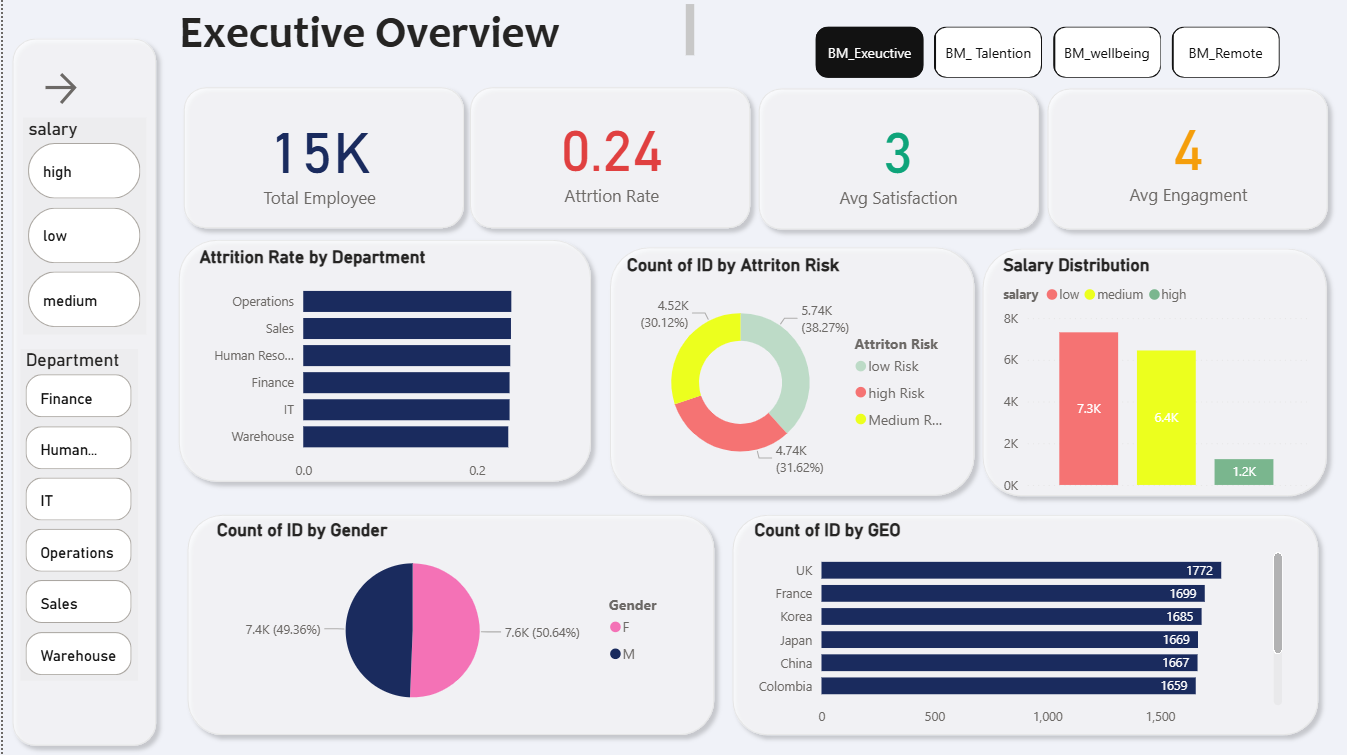

This screenshot's page, from the dashboard's own definition file:
{"tool":"powerbi","page":{"name":"Executive Overview","canvas":[1280,720],"ordinal":0},"visuals":[{"type":"shape","box":[0,28.8,154.9,691.6],"z":0},{"type":"textbox","box":[162.8,0,500,60.5],"z":1000},{"type":"shape","box":[162.8,75.6,284.9,152.3],"z":2000},{"type":"shape","box":[158.5,219.7,410.7,248.6],"z":3000},{"type":"shape","box":[568.6,227.9,365.1,254.7],"z":4000},{"type":"shape","box":[924,228,346,254],"z":5000},{"type":"shape","box":[166.3,482.6,519.8,227.9],"z":6000},{"type":"shape","box":[686,482,576,228],"z":7000},{"type":"bookmarkNavigator","box":[773.3,26.4,444.3,49.2],"z":8000},{"type":"shape","box":[710.5,76.7,284.9,152.3],"z":9000},{"type":"shape","box":[986,76.7,284.9,152.3],"z":10000},{"type":"shape","box":[436,75.6,284.9,152.3],"z":11000},{"type":"card","fields":{"Values":["Count(HR_Engagement_Sat_Sales_Updated.Name)"]},"box":[180.2,86,244.2,129.1],"z":12000},{"type":"card","fields":{"Values":["HR_Engagement_Sat_Sales_Updated.Attrtion Rate"]},"box":[462.8,86,233.7,126.7],"z":13000},{"type":"card","fields":{"Values":["HR_Engagement_Sat_Sales_Updated.Avg Satisfaction"]},"box":[731.4,86,244.2,129.1],"z":14000},{"type":"card","fields":{"Values":["HR_Engagement_Sat_Sales_Updated.Avg Engagment"]},"box":[1007,83.7,244.2,129.1],"z":15000},{"type":"clusteredBarChart","title":"Attrition Rate by Department","fields":{"Category":["HR_Engagement_Sat_Sales_Updated.Department"],"Y":["Avg(HR_Engagement_Sat_Sales_Updated.left_Company)"]},"box":[182.6,236,365.1,231.4],"z":16000},{"type":"donutChart","fields":{"Category":["HR_Engagement_Sat_Sales_Updated.Attriton Risk"],"Y":["CountNonNull(HR_Engagement_Sat_Sales_Updated.ID)"]},"box":[589.6,242.6,320.6,225.7],"z":17000},{"type":"clusteredBarChart","fields":{"Y":["CountNonNull(HR_Engagement_Sat_Sales_Updated.ID)"],"Category":["HR_Engagement_Sat_Sales_Updated.GEO"]},"box":[710.8,494.7,512.7,206.5],"z":18000},{"type":"pieChart","fields":{"Y":["CountNonNull(HR_Engagement_Sat_Sales_Updated.ID)"],"Category":["HR_Engagement_Sat_Sales_Updated.Gender"]},"box":[199.3,494.7,449.1,193.3],"z":19000},{"type":"columnChart","title":"Salary Distribution","fields":{"Y":["CountNonNull(HR_Engagement_Sat_Sales_Updated.ID)"],"Series":["HR_Engagement_Sat_Sales_Updated.salary"],"Category":["HR_Engagement_Sat_Sales_Updated.salary"]},"box":[947.4,242.6,300.2,234.1],"z":20000},{"type":"advancedSlicerVisual","fields":{"Values":["HR_Engagement_Sat_Sales_Updated.Department"]},"box":[16.8,333.8,111.7,315.8],"z":21000},{"type":"advancedSlicerVisual","fields":{"Values":["HR_Engagement_Sat_Sales_Updated.salary"]},"box":[19.2,112.9,117.7,206.5],"z":22000},{"type":"actionButton","box":[34.8,66,99.7,39.6],"z":23000}]}

Visuals, with their boxes in screenshot pixels (x1, y1, x2, y2), scaled from the page's 1280x720 canvas onto the 1347x755 screenshot:
shape: (0,30,163,754)
textbox: (171,0,697,63)
shape: (171,79,471,239)
shape: (167,230,599,491)
shape: (598,239,983,506)
shape: (972,239,1336,505)
shape: (175,506,722,745)
shape: (722,505,1328,745)
bookmarkNavigator: (814,28,1281,79)
shape: (748,80,1048,240)
shape: (1038,80,1337,240)
shape: (459,79,759,239)
card - Count(HR_Engagement_Sat_Sales_Updated.Name): (190,90,447,226)
card - HR_Engagement_Sat_Sales_Updated.Attrtion Rate: (487,90,733,223)
card - HR_Engagement_Sat_Sales_Updated.Avg Satisfaction: (770,90,1027,226)
card - HR_Engagement_Sat_Sales_Updated.Avg Engagment: (1060,88,1317,223)
"Attrition Rate by Department" clusteredBarChart: (192,247,576,490)
donutChart - HR_Engagement_Sat_Sales_Updated.Attriton Risk x CountNonNull(HR_Engagement_Sat_Sales_Updated.ID): (620,254,958,491)
clusteredBarChart - CountNonNull(HR_Engagement_Sat_Sales_Updated.ID) x HR_Engagement_Sat_Sales_Updated.GEO: (748,519,1288,735)
pieChart - CountNonNull(HR_Engagement_Sat_Sales_Updated.ID) x HR_Engagement_Sat_Sales_Updated.Gender: (210,519,682,721)
"Salary Distribution" columnChart: (997,254,1313,500)
advancedSlicerVisual - HR_Engagement_Sat_Sales_Updated.Department: (18,350,135,681)
advancedSlicerVisual - HR_Engagement_Sat_Sales_Updated.salary: (20,118,144,335)
actionButton: (37,69,142,111)
